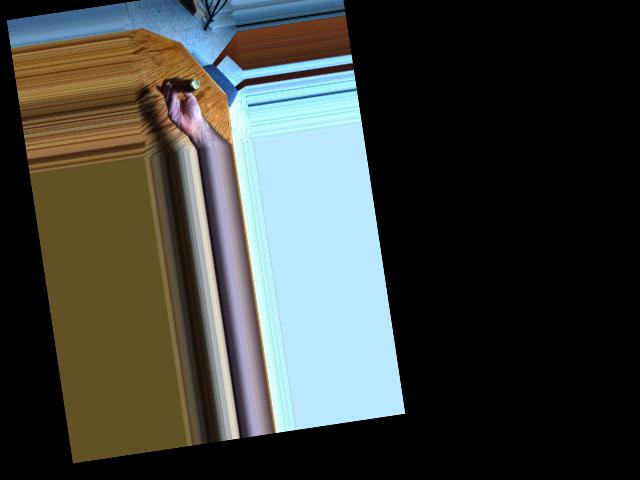sweet_potato: (160, 73, 195, 91)
